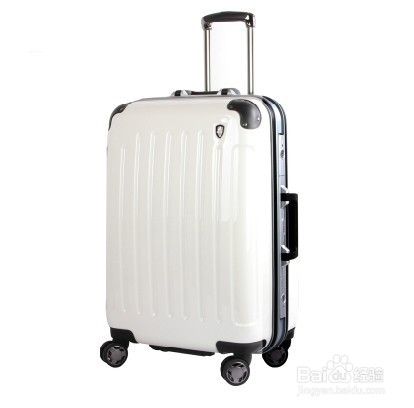suitcase: (98, 9, 300, 387)
